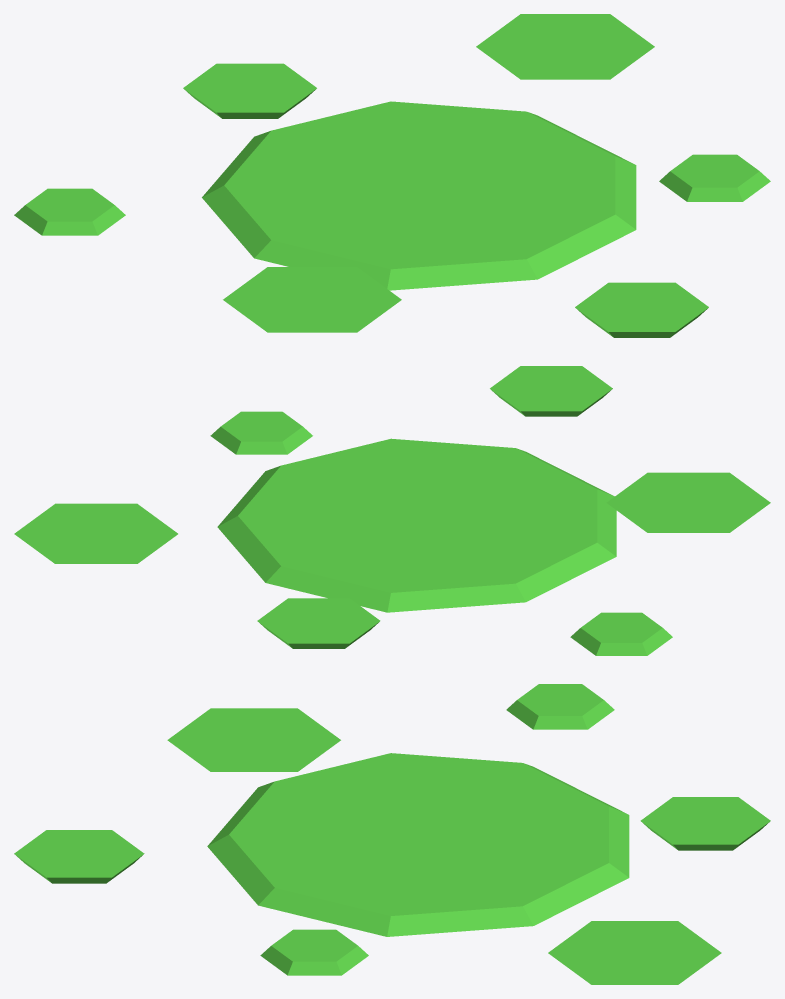
File: splat_jelly.glb
3 renders of one model, top to bottom at view 1: azimuth 30°, elevation 25°; view 2: azimuth 150°, elevation 25°; view 3: azimuth 270°, elevation 25°, orthographic. The views are drawn at different scales.
Parts seen in each view (by area): view 1: splat_splat_jelly_goo; view 2: splat_splat_jelly_goo; view 3: splat_splat_jelly_goo.
Boxes of the visible parts, x1,y1,x2,y2 form: splat_splat_jelly_goo: (14,14,770,337); splat_splat_jelly_goo: (14,366,770,655); splat_splat_jelly_goo: (14,684,770,984).
Bounding box in the file's own units: 0.3313 × 0.006 × 0.3478.
